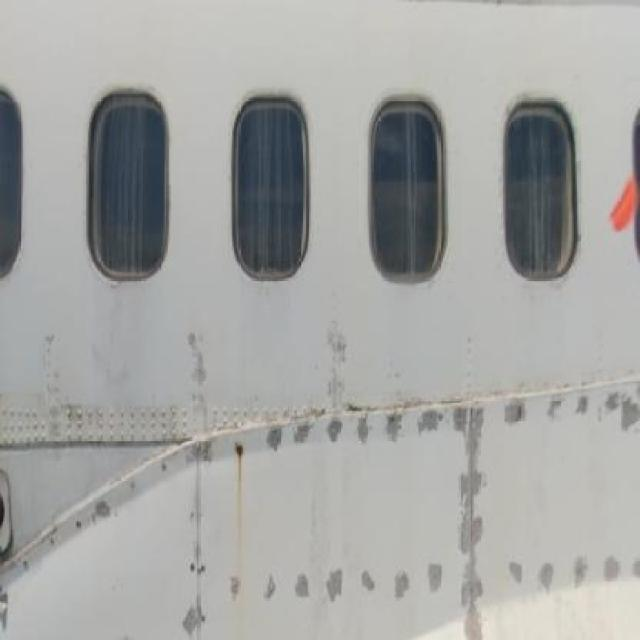Missing-Rivet: (15, 457, 183, 580), (269, 413, 440, 452), (224, 569, 444, 597), (505, 556, 638, 582), (188, 504, 206, 640)
Rust: (223, 423, 259, 574)
Scartch: (267, 381, 640, 476), (217, 552, 640, 626), (448, 386, 490, 640), (36, 305, 96, 467), (172, 491, 228, 640), (318, 293, 362, 438), (174, 302, 215, 440), (0, 582, 17, 632)
